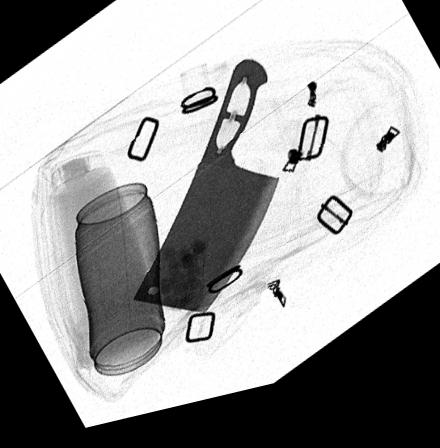Knife: (129, 69, 278, 323)
